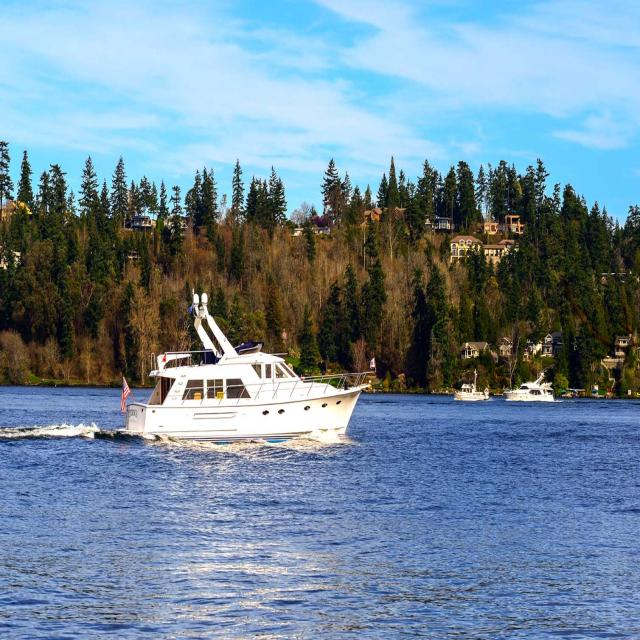houseboat: (126, 281, 370, 452)
